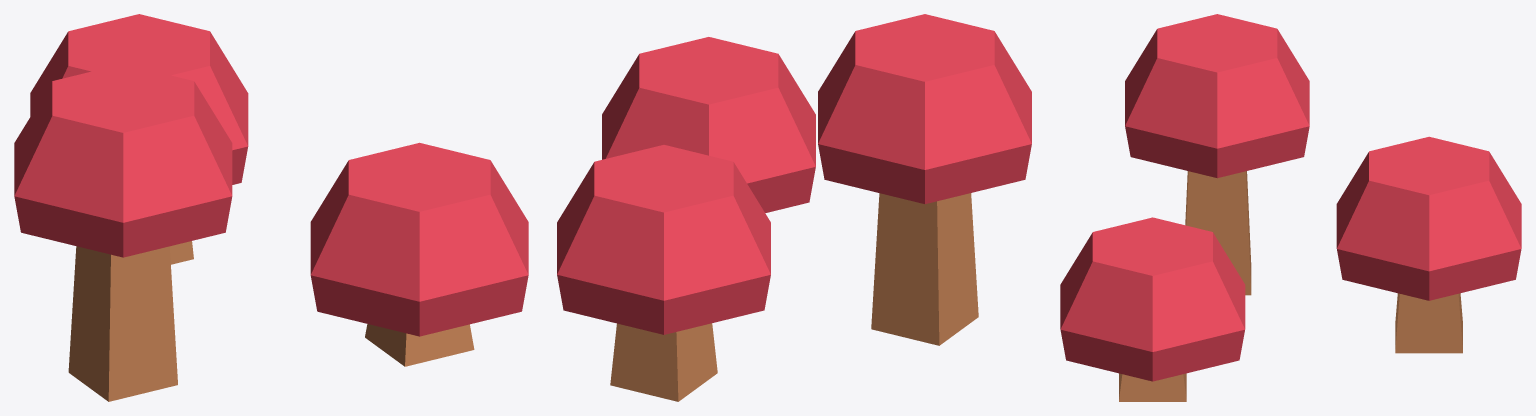
The model's file is d_kenney_champignons_plats.glb.
3 renders of one model, left to right at view 1: azimuth 30°, elevation 25°; view 2: azimuth 150°, elevation 25°; view 3: azimuth 270°, elevation 25°, orthographic. The views are drawn at different scales.
Visible parts, largest first — view 1: d_kenney_champignons_plats; view 2: d_kenney_champignons_plats; view 3: d_kenney_champignons_plats.
Boxes of the visible parts, bbox=[...] form: d_kenney_champignons_plats: bbox=[14, 14, 528, 401]; d_kenney_champignons_plats: bbox=[557, 14, 1031, 401]; d_kenney_champignons_plats: bbox=[1060, 14, 1521, 401].
Size of the model in its own units: 0.5242 by 0.295 by 0.5188.
1 material, 1 textured.
